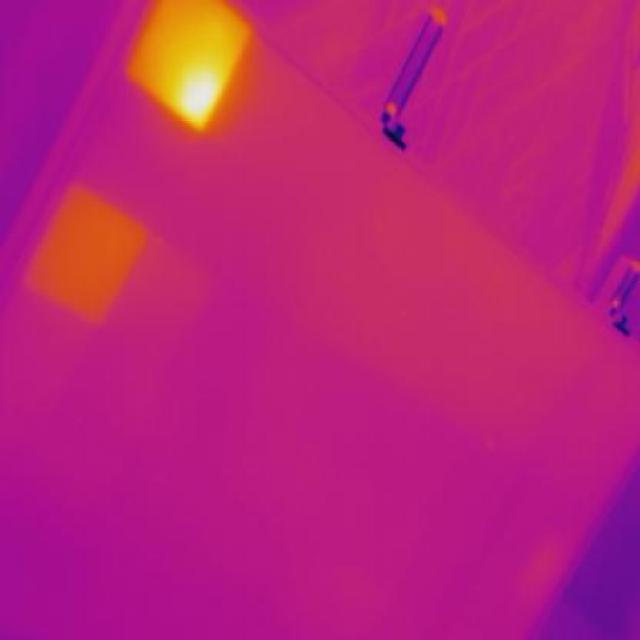hotspot: (526, 0, 638, 175)
